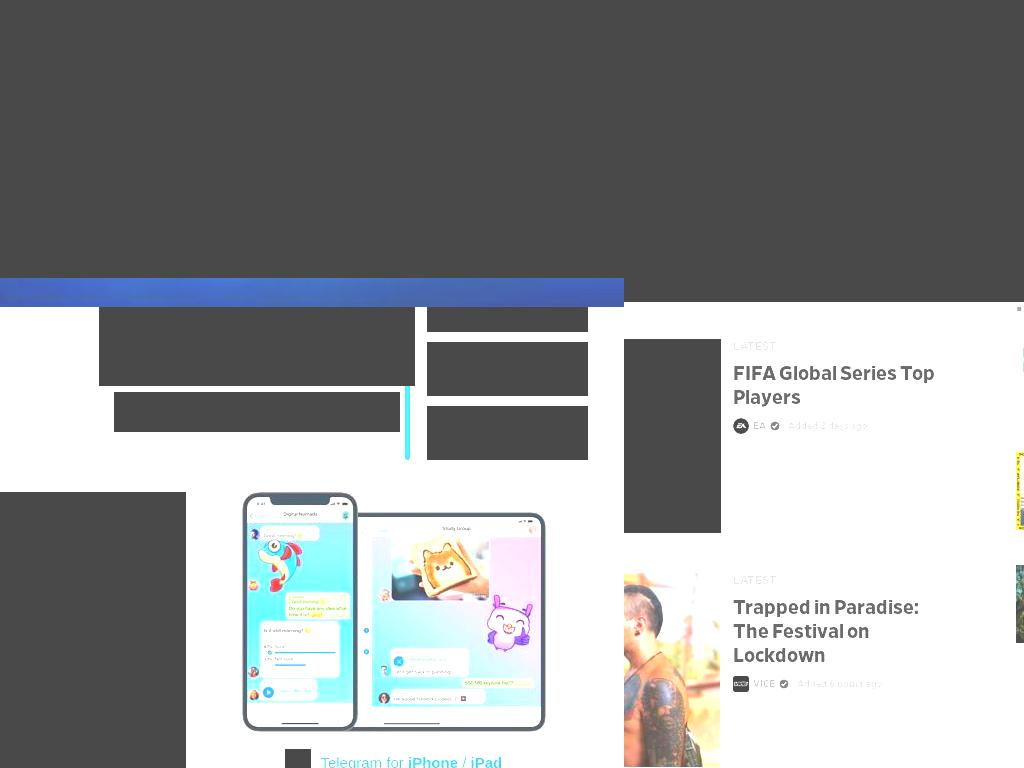button: (185, 492, 603, 768), (0, 492, 186, 768), (99, 307, 415, 386), (624, 339, 721, 533), (624, 573, 721, 767), (427, 342, 588, 396), (427, 406, 588, 460), (427, 307, 588, 332), (732, 676, 775, 692), (732, 418, 766, 434)
image: (624, 0, 1024, 302), (241, 492, 546, 732), (0, 492, 185, 732), (624, 339, 720, 533), (624, 573, 720, 767), (185, 350, 329, 386), (285, 749, 311, 768), (732, 418, 749, 434), (732, 676, 749, 692), (769, 421, 780, 431), (778, 679, 789, 689)
link: (732, 598, 919, 666), (732, 364, 935, 408), (80, 754, 139, 768), (407, 754, 458, 768), (470, 754, 503, 768)
text: (0, 0, 624, 278), (624, 339, 721, 533), (114, 392, 400, 432), (640, 273, 1024, 291), (427, 360, 588, 396), (427, 424, 588, 460), (427, 307, 588, 332), (427, 342, 588, 360), (427, 406, 588, 424), (320, 754, 409, 768), (0, 754, 81, 768), (828, 679, 883, 689), (732, 340, 777, 352), (732, 574, 777, 586), (819, 421, 868, 431), (752, 676, 775, 692), (787, 421, 820, 431), (796, 679, 829, 689), (752, 418, 766, 434), (457, 754, 470, 768)
